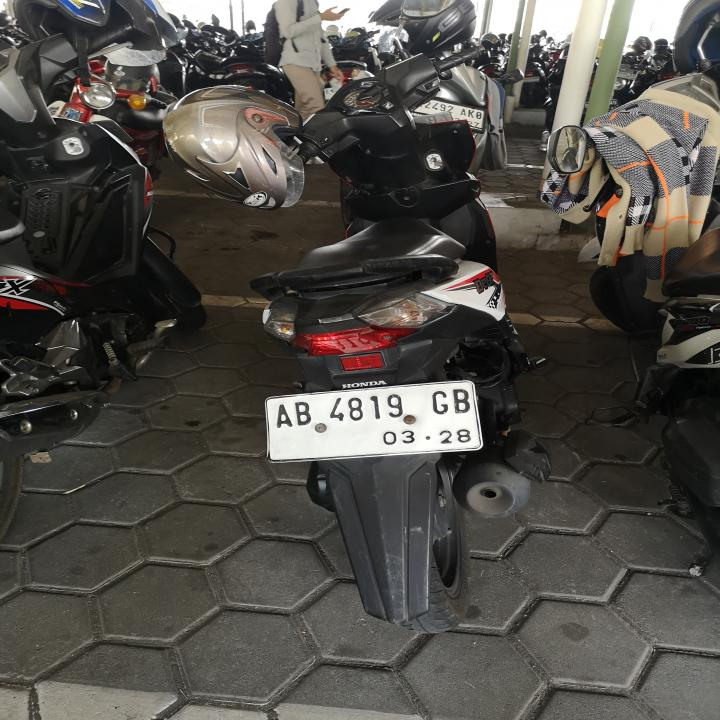plate: (263, 378, 485, 466)
